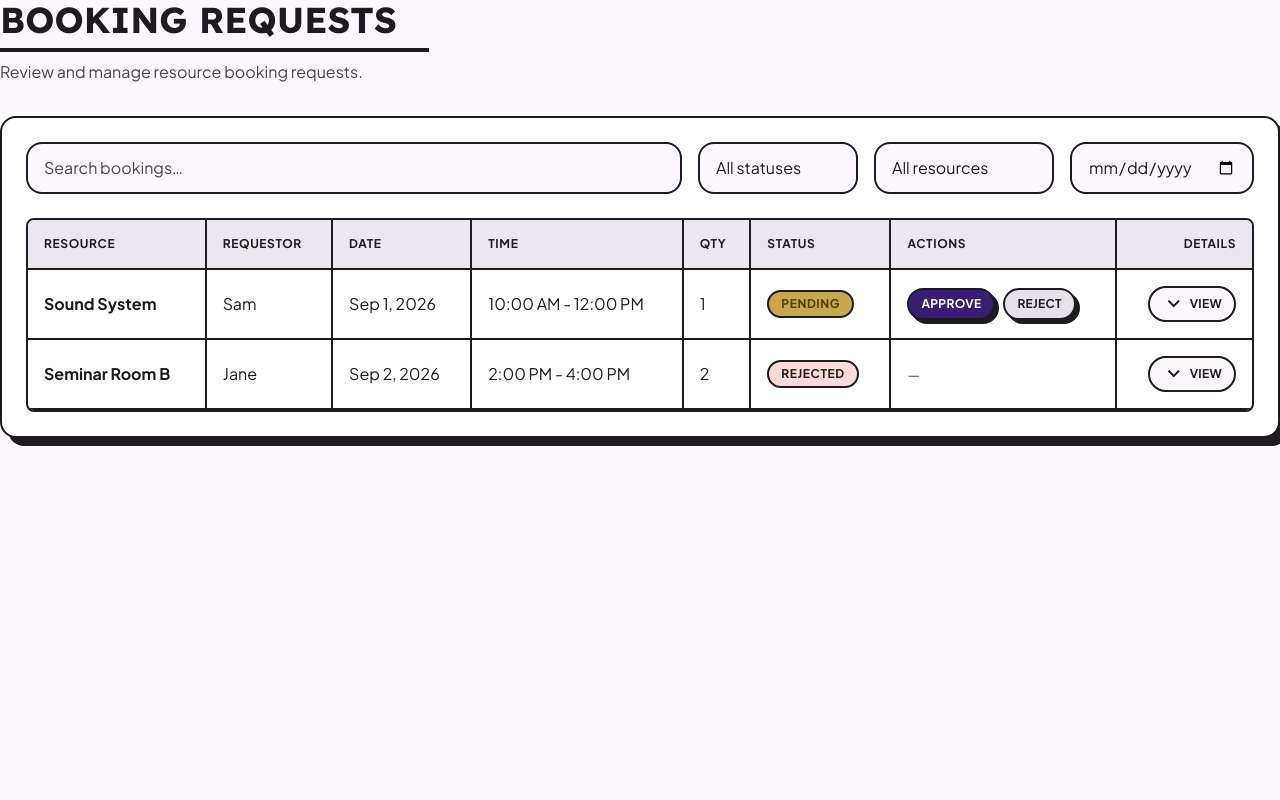
Test case: AdminBookingsPage › closes the reject dialog on Escape
Click the button "Reject".
click(1040, 304)  # box [1003,288,1076,320]
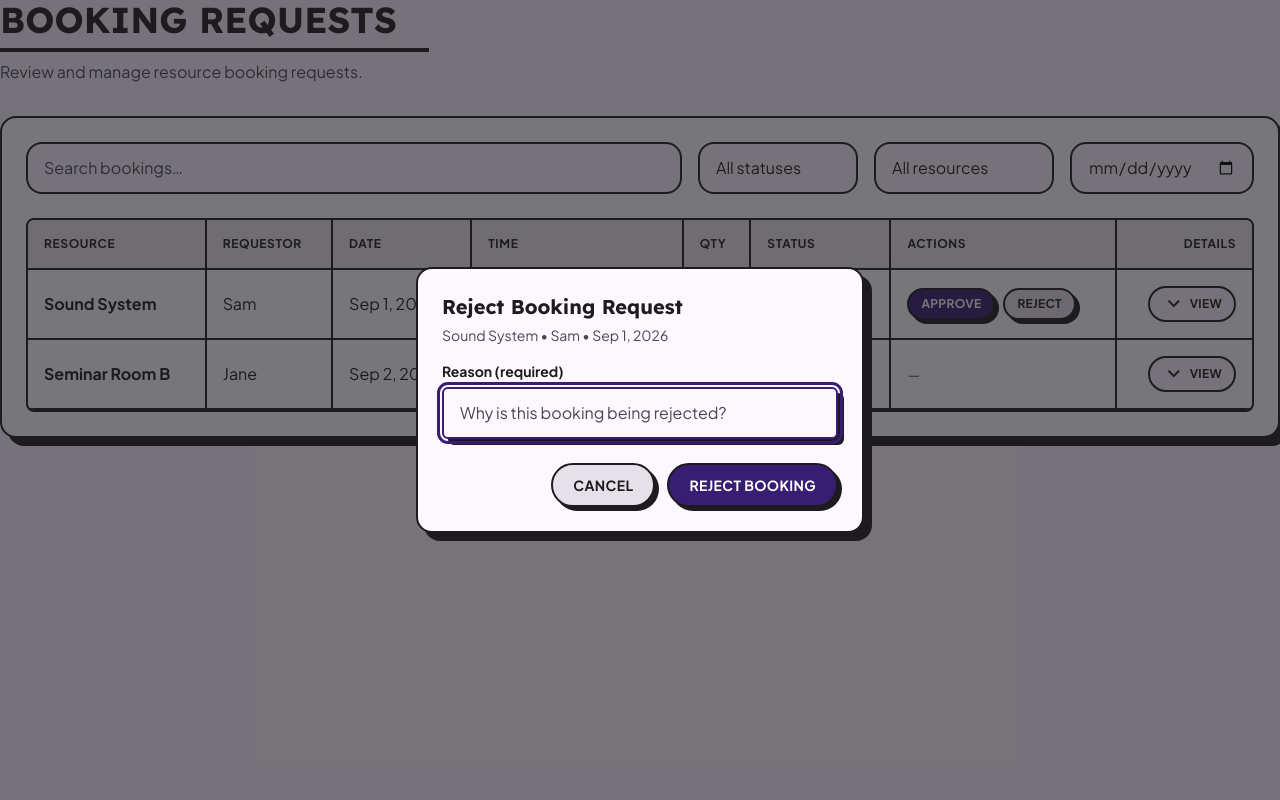
Result: the dialog is shown
Press Escape
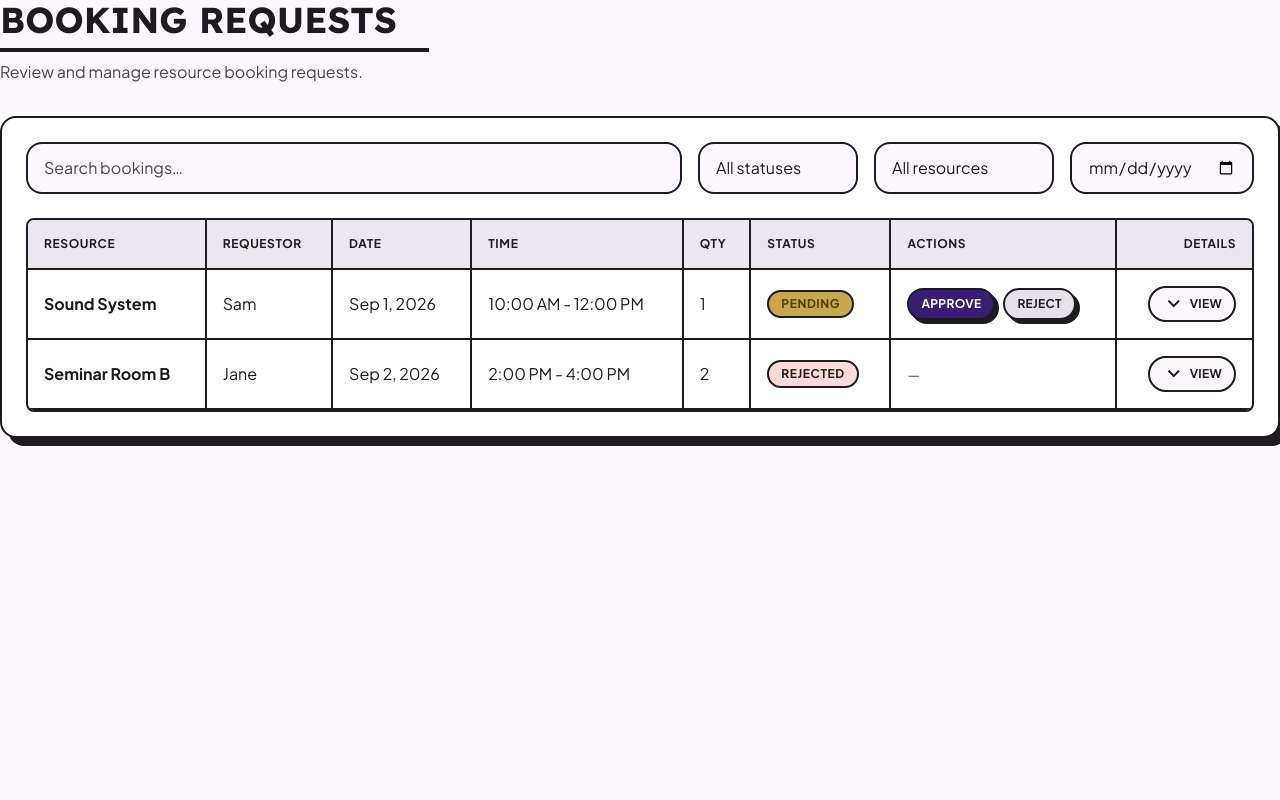
Result: the dialog is gone
